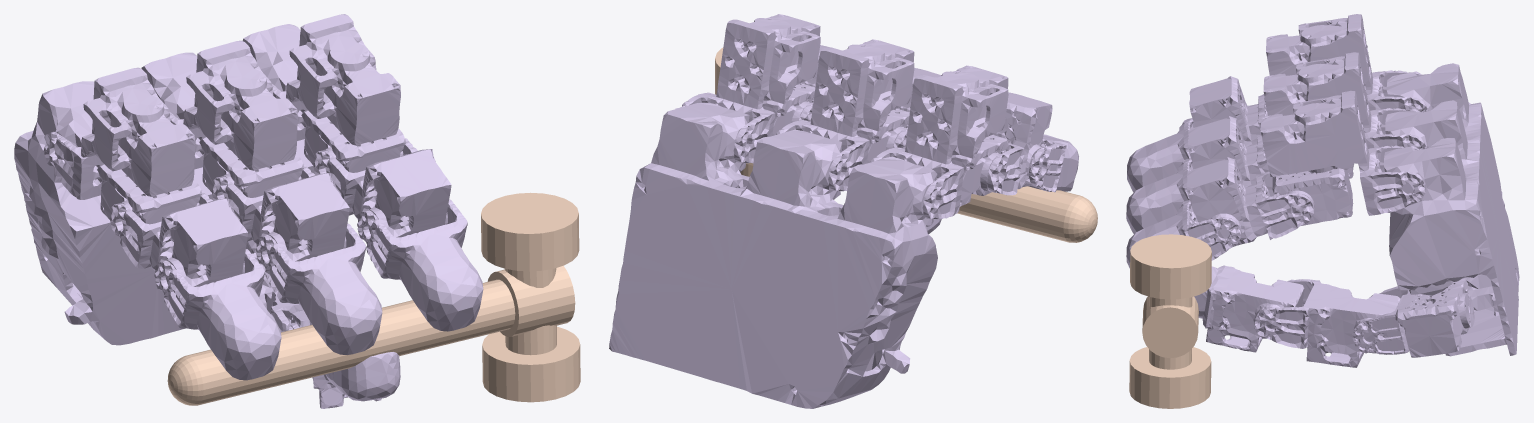
The model's file is 100c87ed372309-closed.glb.
The picture shows the model from 3 angles, left to right: view 1: azimuth 30°, elevation 25°; view 2: azimuth 150°, elevation 25°; view 3: azimuth 270°, elevation 25°; orthographic projection. The views are drawn at different scales.
Visible parts, largest first — view 1: LEAP_hand, world; view 2: LEAP_hand, world; view 3: LEAP_hand, world.
Part boxes in pixels (x1=…): LEAP_hand: x1=14, y1=14, x2=483, y2=408; world: x1=167, y1=192, x2=580, y2=405; LEAP_hand: x1=609, y1=14, x2=1078, y2=408; world: x1=715, y1=47, x2=1097, y2=242; LEAP_hand: x1=1126, y1=14, x2=1519, y2=367; world: x1=1129, y1=234, x2=1211, y2=408.
Bounding box in the file's own units: 0.1793 × 0.1391 × 0.183.
